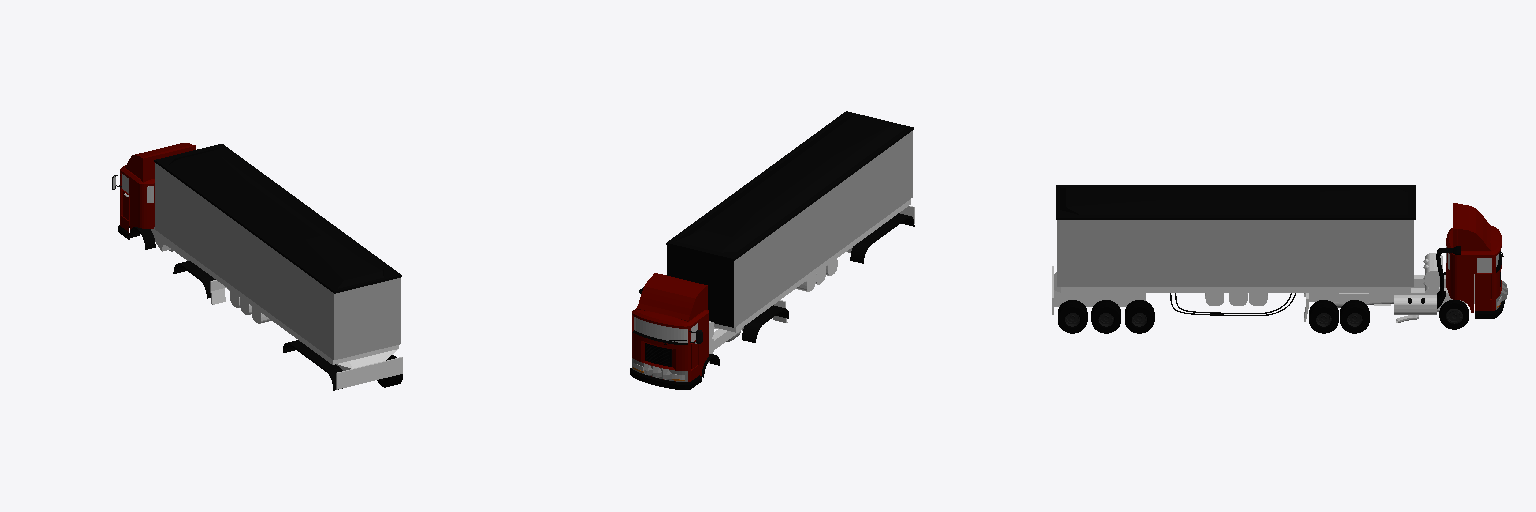
Rendered from trucked.obj.
The picture shows the model from 3 angles: view 1: azimuth 30°, elevation 25°; view 2: azimuth 150°, elevation 25°; view 3: azimuth 270°, elevation 25°; orthographic projection.
Parts seen in each view (by area): view 1: Plane.002, Plane, BezierCurve.001_Mesh.003, Plane.005_Plane.006, Circle.009; view 2: Plane.002, BezierCurve.001_Mesh.003, Plane.005_Plane.006, Plane, Circle.009, Circle.004_Circle, BezierCurve; view 3: Plane.002, BezierCurve.001_Mesh.003, Plane, Plane.005_Plane.006, Cube, Circle.010_Circle.003, Circle.014_Circle.010, BezierCircle.002_Mesh.009, BezierCircle.007_Mesh.011, BezierCircle.006_Mesh.010, BezierCircle.004_Mesh.004, BezierCircle.001_Mesh.008.
Boxes of the visible parts, x1=… form: Plane.002: x1=154, y1=144, x2=401, y2=359; Plane: x1=158, y1=232, x2=402, y2=389; BezierCurve.001_Mesh.003: x1=120, y1=165, x2=154, y2=233; Plane.005_Plane.006: x1=125, y1=143, x2=195, y2=182; Circle.009: x1=283, y1=340, x2=342, y2=390; Plane.002: x1=666, y1=111, x2=913, y2=327; BezierCurve.001_Mesh.003: x1=632, y1=308, x2=708, y2=381; Plane.005_Plane.006: x1=637, y1=273, x2=707, y2=321; Plane: x1=714, y1=199, x2=914, y2=332; Circle.009: x1=850, y1=213, x2=914, y2=263; Circle.004_Circle: x1=742, y1=305, x2=788, y2=342; BezierCurve: x1=630, y1=368, x2=701, y2=389; Plane.002: x1=1056, y1=185, x2=1415, y2=286; BezierCurve.001_Mesh.003: x1=1446, y1=226, x2=1501, y2=312; Plane: x1=1052, y1=266, x2=1410, y2=314; Plane.005_Plane.006: x1=1453, y1=203, x2=1490, y2=250; Cube: x1=1304, y1=274, x2=1474, y2=321; Circle.010_Circle.003: x1=1394, y1=295, x2=1436, y2=314; Circle.014_Circle.010: x1=1205, y1=293, x2=1267, y2=305; BezierCircle.002_Mesh.009: x1=1125, y1=300, x2=1154, y2=333; BezierCircle.007_Mesh.011: x1=1058, y1=300, x2=1087, y2=333; BezierCircle.006_Mesh.010: x1=1091, y1=300, x2=1120, y2=333; BezierCircle.004_Mesh.004: x1=1340, y1=300, x2=1369, y2=333; BezierCircle.001_Mesh.008: x1=1309, y1=300, x2=1338, y2=333.
Bounding box in the file's own units: 10.66 × 15.61 × 53.46.